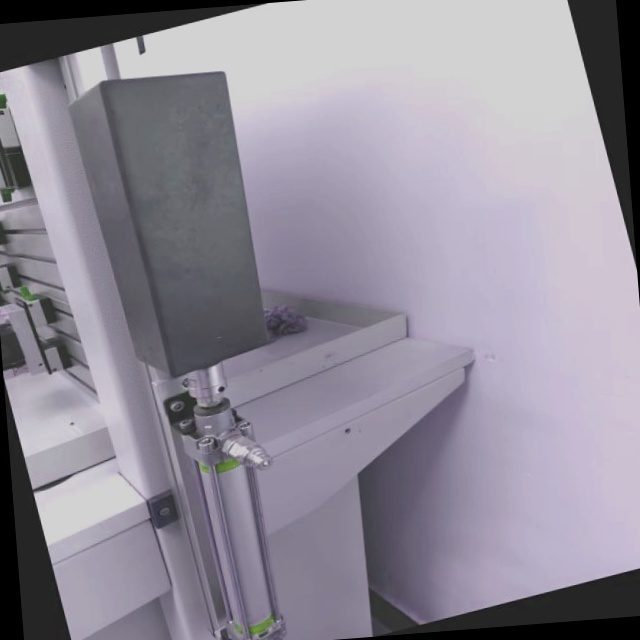load: (33, 19, 380, 640)
